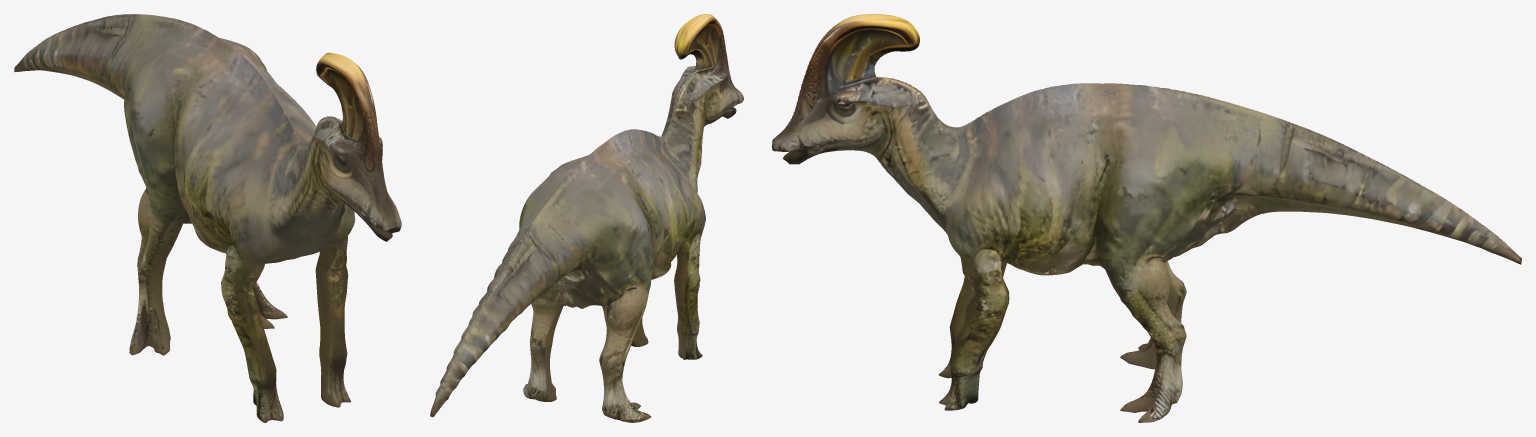
File: torikosaurusu.glb
The picture shows the model from 3 angles, left to right: view 1: azimuth 30°, elevation 25°; view 2: azimuth 150°, elevation 25°; view 3: azimuth 270°, elevation 25°; orthographic projection. The views are drawn at different scales.
Parts seen in each view (by area): view 1: model; view 2: model; view 3: model.
Part boxes in pixels (box(x1,y1,x2,y2)): model: box(14, 14, 401, 422); model: box(430, 14, 743, 422); model: box(772, 14, 1521, 422).
Bounding box in the file's own units: 0.4502 × 1.05 × 1.9.
Materials: 1 (1 with a texture image).
